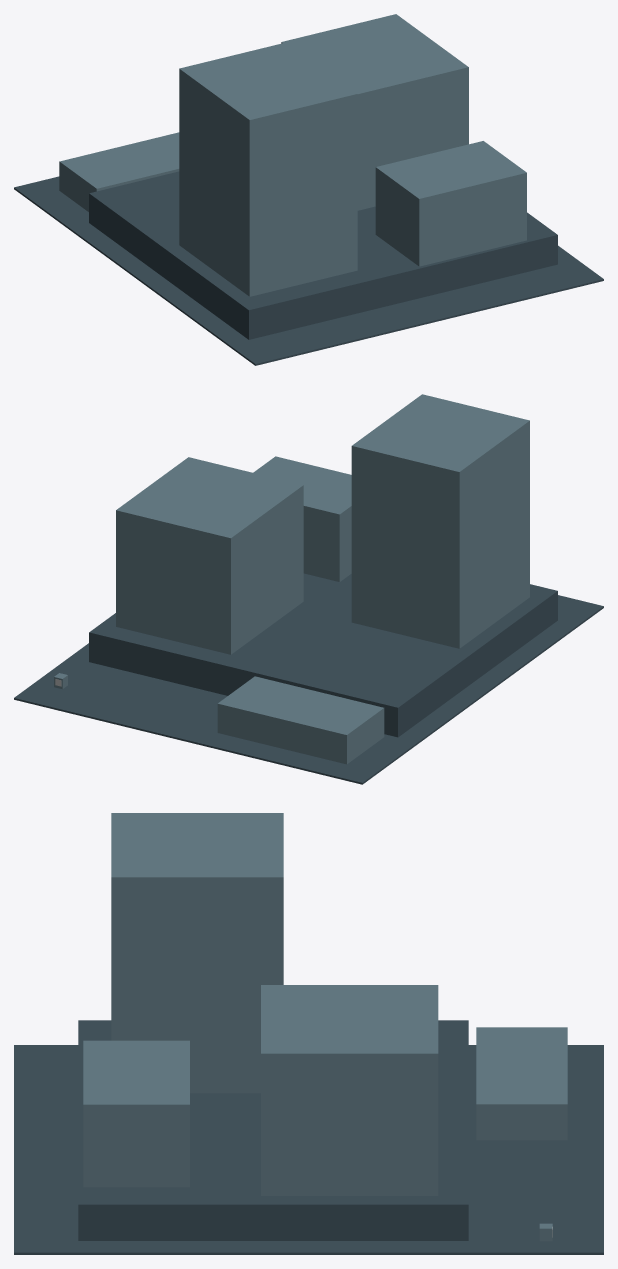
The model's file is commercial_buildings.lod2.glb.
3 views of the same model, one above another, from view 1: azimuth 30°, elevation 25°; view 2: azimuth 150°, elevation 25°; view 3: azimuth 270°, elevation 25° (orthographic). The views are drawn at different scales.
Parts seen in each view (by area): view 1: commercial_buildings_graphite_light.002, commercial_buildings_graphite.002; view 2: commercial_buildings_graphite_light.002, commercial_buildings_graphite.002; view 3: commercial_buildings_graphite_light.002, commercial_buildings_graphite.002.
Part boxes in pixels (x1,y1,x2,y2): commercial_buildings_graphite_light.002: (59,14,526,296); commercial_buildings_graphite.002: (14,171,603,365); commercial_buildings_graphite_light.002: (54,394,529,764); commercial_buildings_graphite.002: (14,573,603,784); commercial_buildings_graphite_light.002: (83,813,567,1241); commercial_buildings_graphite.002: (14,1020,603,1254).
Bounding box in the file's own units: 97 × 55.4 × 116.
